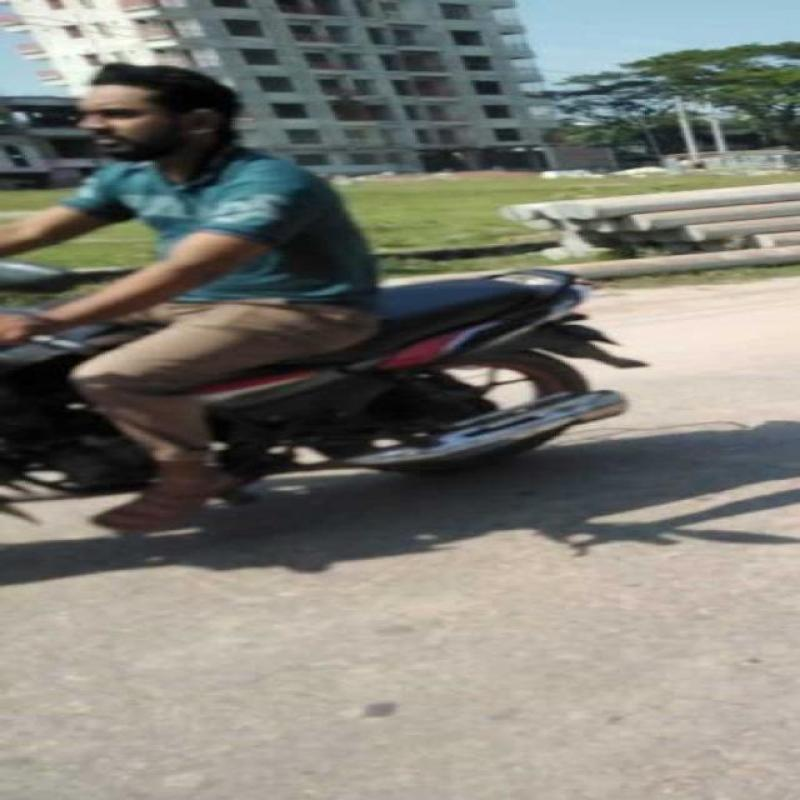nohelmet: (53, 59, 247, 162)
